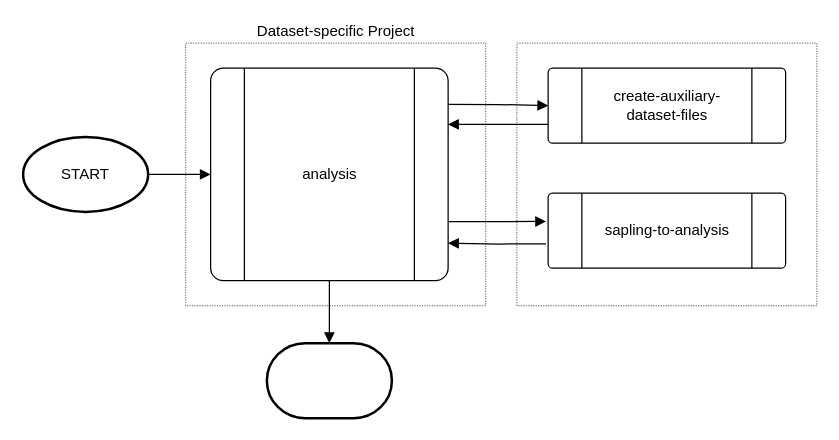
This 839x440 diagram has some shape labels left out. Here are the shapes that lost their labels. From the top down, the box of each, then its label:
(516, 42, 817, 306): Sapling Project
(265, 341, 392, 419): END
